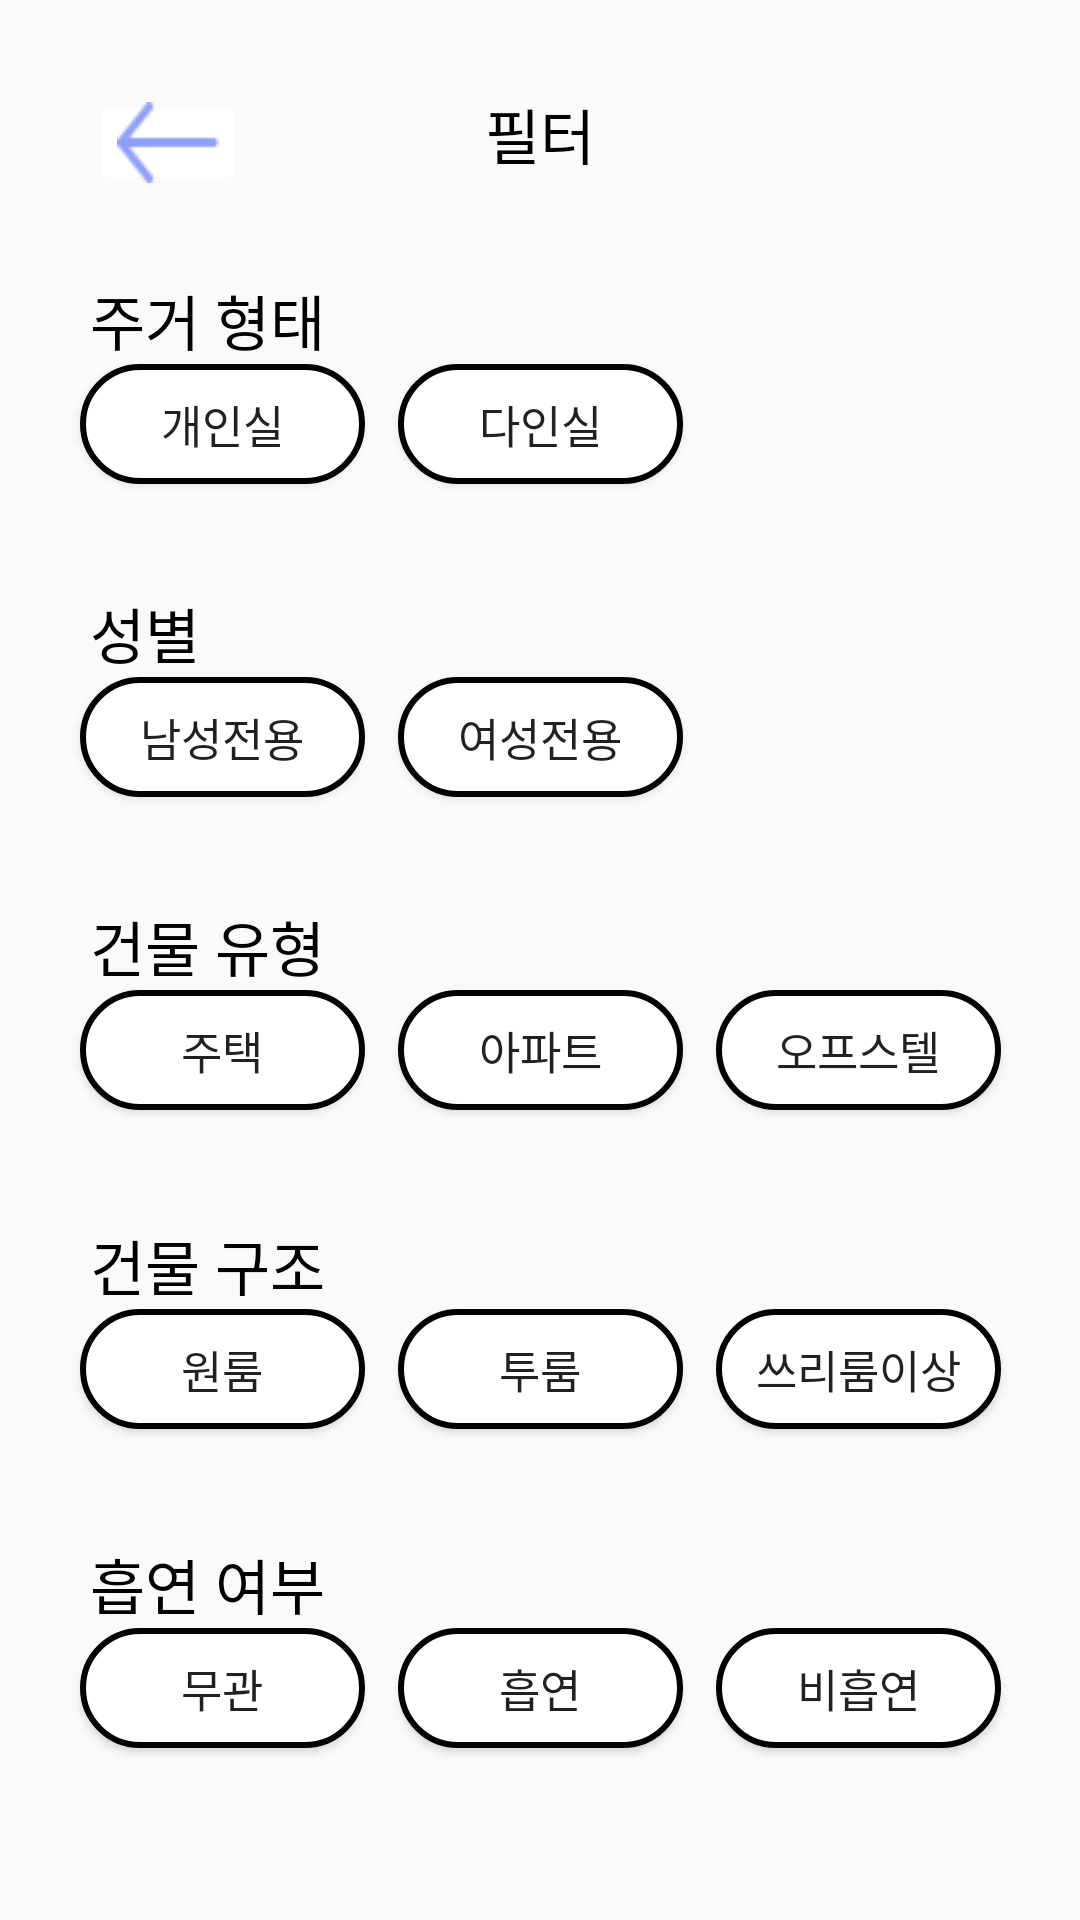

Named icons in this screenshot (1080*1920) and their centers, point (x, y):
arrow left: point (168, 142)
